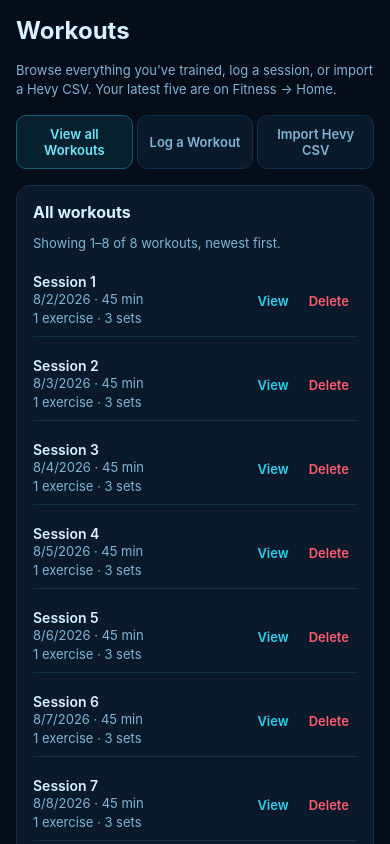
opens on the workout list, with the log form behind its own tab
Expected: the tab "View all Workouts" is shown, [16, 115, 133, 169]
Expected: the text "Session 1" is shown, [33, 273, 96, 290]
Click the tab "Log a Workout": coordinates (195, 142) [137, 115, 253, 169]
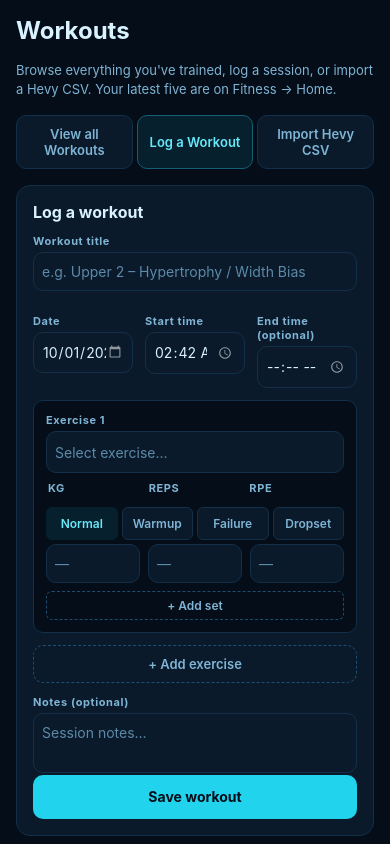
Expected: the text "Log a workout" is shown, [33, 202, 143, 222]
